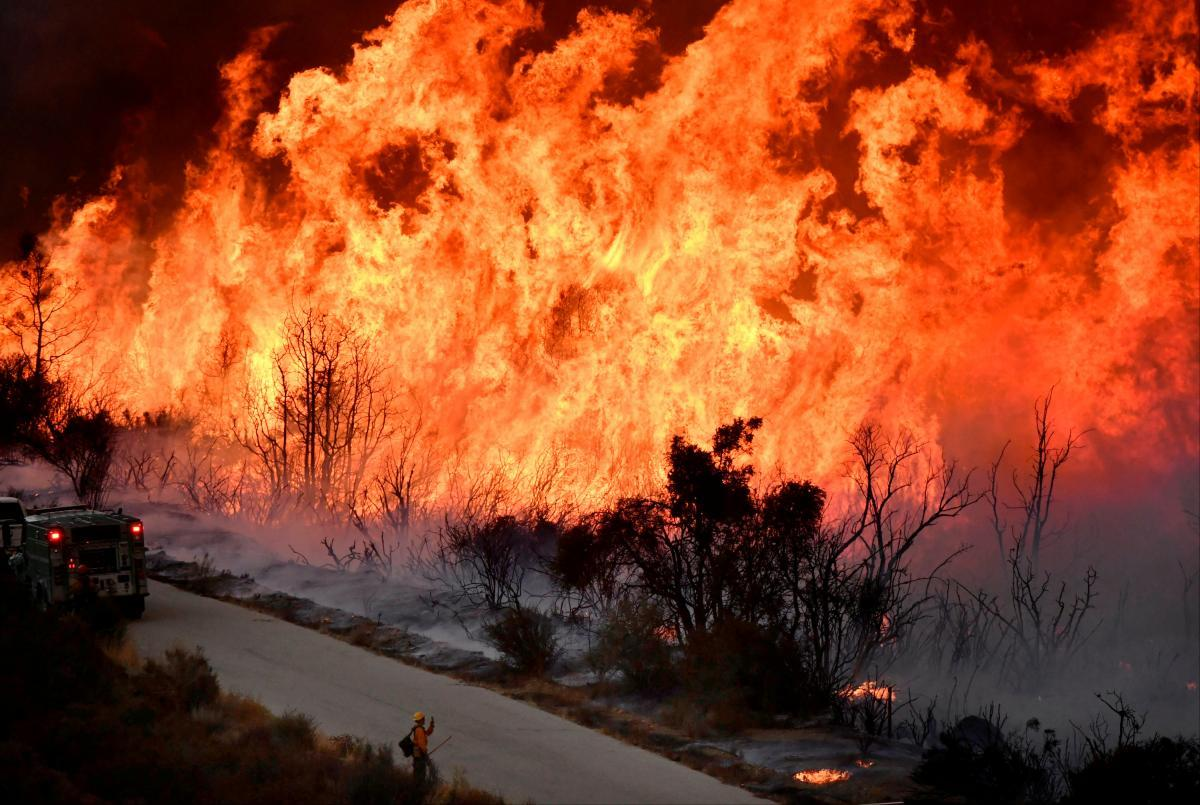Fire: (3, 6, 1200, 536)
